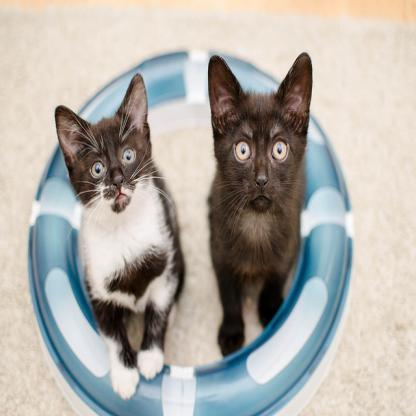cat: (54, 71, 183, 402), (206, 52, 313, 360)
